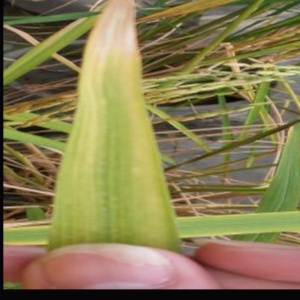Leaf_Blast: (60, 0, 169, 244)
